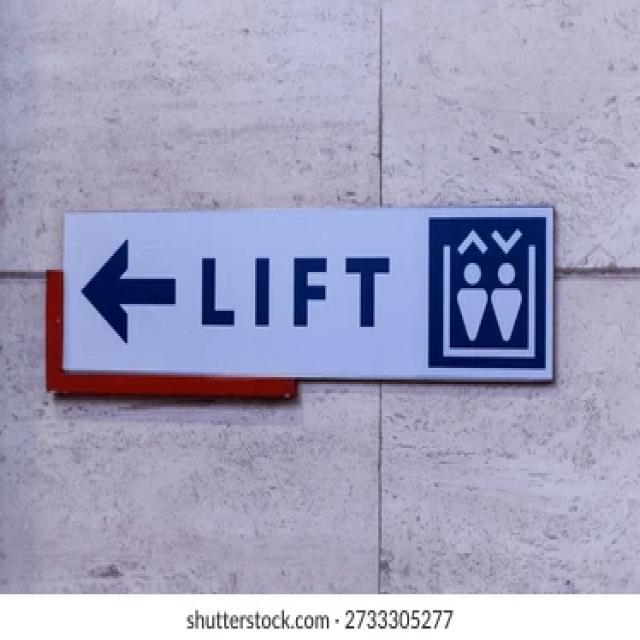lift_icon: (435, 222, 543, 367)
